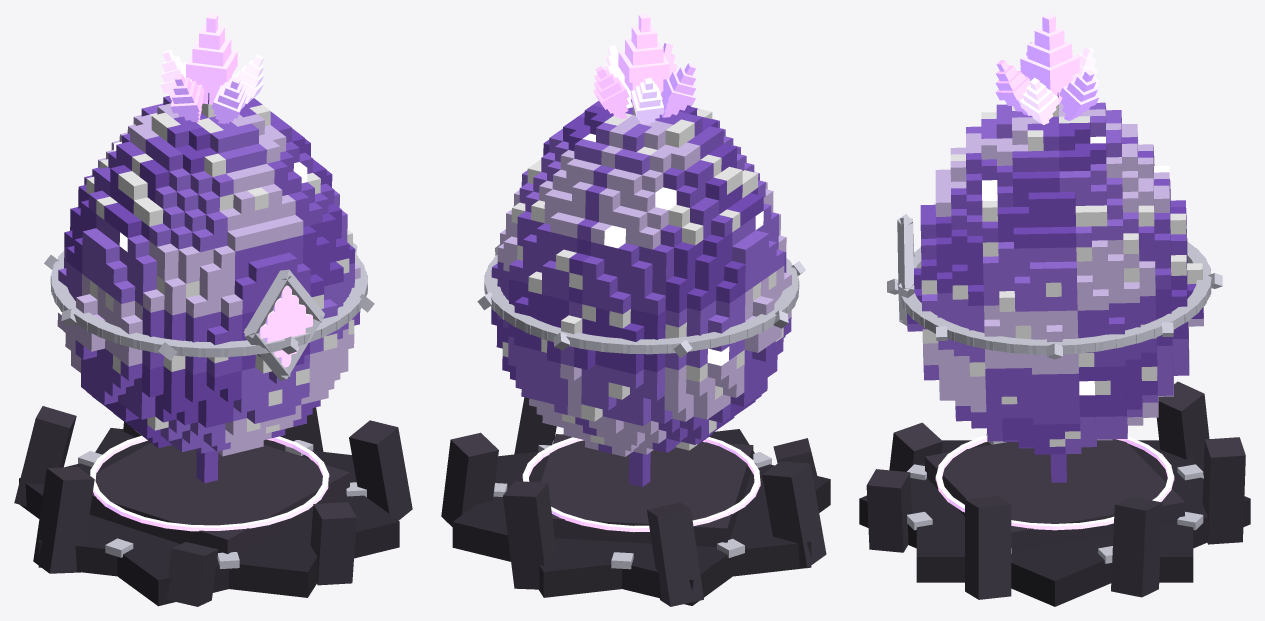
Rendered from egg_raro_amatista.glb.
The picture shows the model from 3 angles, left to right: view 1: azimuth 30°, elevation 25°; view 2: azimuth 150°, elevation 25°; view 3: azimuth 270°, elevation 25°; orthographic projection.
Parts seen in each view (by area): view 1: shell_geo, root_geo, crown_geo, egg_geo, emblem_geo; view 2: shell_geo, root_geo, crown_geo, egg_geo; view 3: shell_geo, root_geo, crown_geo, egg_geo, emblem_geo.
Boxes of the visible parts, x1,y1,x2,y2 form: shell_geo: (57, 93, 360, 483); root_geo: (14, 406, 412, 606); crown_geo: (160, 14, 264, 123); egg_geo: (44, 243, 374, 360); emblem_geo: (243, 269, 324, 380); shell_geo: (491, 98, 791, 487); root_geo: (441, 397, 830, 606); crown_geo: (593, 14, 696, 124); egg_geo: (477, 244, 805, 357); shell_geo: (907, 92, 1203, 482); root_geo: (859, 381, 1250, 606); crown_geo: (995, 14, 1099, 124); egg_geo: (887, 241, 1222, 359); emblem_geo: (897, 214, 914, 325).
Bounding box in the file's own units: 5.55 × 7.95 × 5.52.
